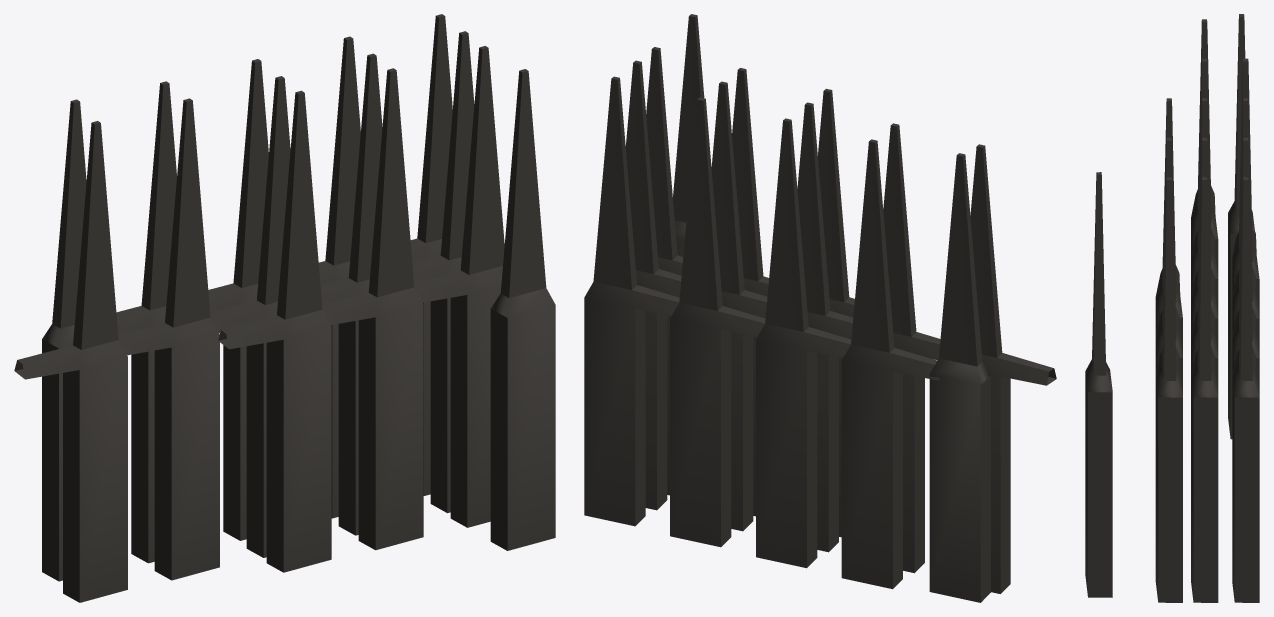
Rendered from Iron_FenceV1.fbx.
3 renders of one model, left to right at view 1: azimuth 30°, elevation 25°; view 2: azimuth 150°, elevation 25°; view 3: azimuth 270°, elevation 25°, orthographic. The views are drawn at different scales.
Parts seen in each view (by area): view 1: Iron_FenceV1_S2, Iron_FenceV1_S3, Iron_FenceV1_S1, Iron_FenceV1_S4; view 2: Iron_FenceV1_S1, Iron_FenceV1_S2, Iron_FenceV1_S3, Iron_FenceV1_S4; view 3: Iron_FenceV1_S1, Iron_FenceV1_S2, Iron_FenceV1_S3, Iron_FenceV1_S4.
Boxes of the visible parts, x1,y1,x2,y2 form: Iron_FenceV1_S2: (14,31,474,602); Iron_FenceV1_S3: (218,46,504,572); Iron_FenceV1_S1: (42,14,452,581); Iron_FenceV1_S4: (490,69,555,550); Iron_FenceV1_S1: (584,76,990,602); Iron_FenceV1_S2: (625,60,1056,593); Iron_FenceV1_S3: (646,47,854,537); Iron_FenceV1_S4: (673,14,704,256); Iron_FenceV1_S1: (1228,14,1259,602); Iron_FenceV1_S2: (1191,19,1218,602); Iron_FenceV1_S3: (1155,98,1182,602); Iron_FenceV1_S4: (1085,172,1112,597).
Bounding box in the file's own units: 122 × 118 × 44.56.
